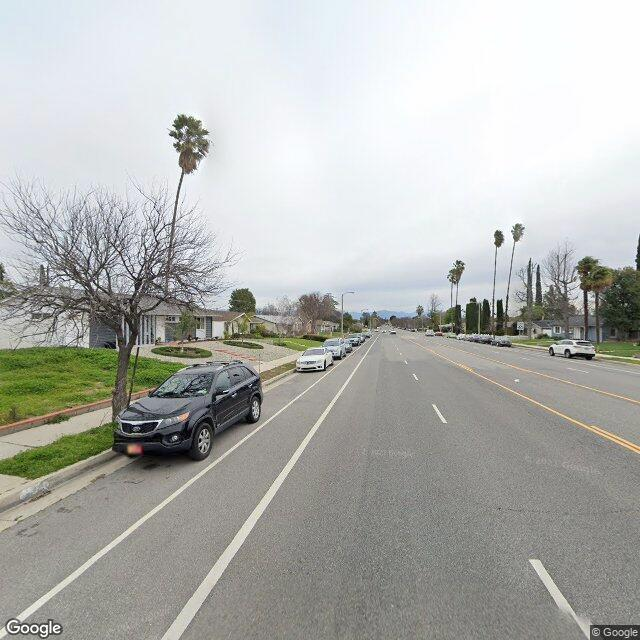crack: (492, 497, 638, 521)
